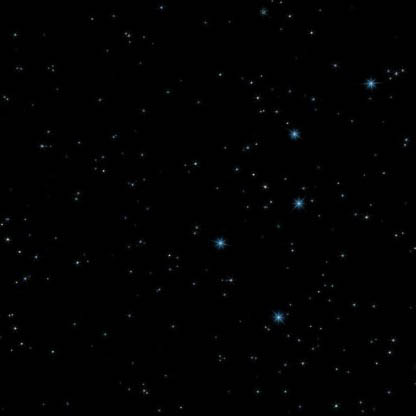Cassiopeia: (278, 116, 309, 149), (357, 66, 388, 98), (263, 302, 293, 334), (206, 226, 239, 254), (283, 193, 310, 217)
